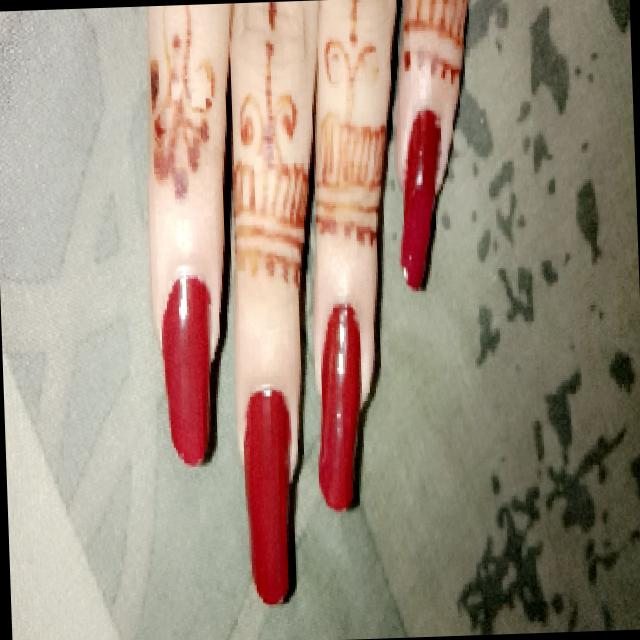Nail: (245, 391, 290, 603), (162, 278, 210, 465), (319, 304, 359, 509), (401, 110, 440, 289)
